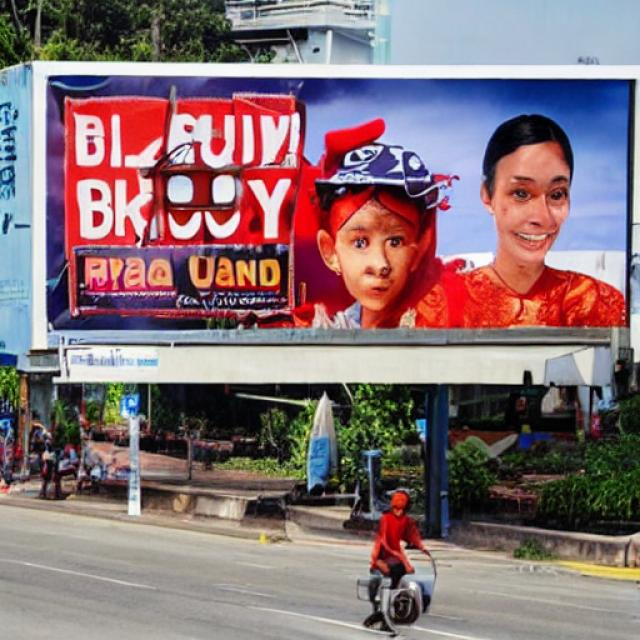Billboard: (32, 61, 638, 354)
